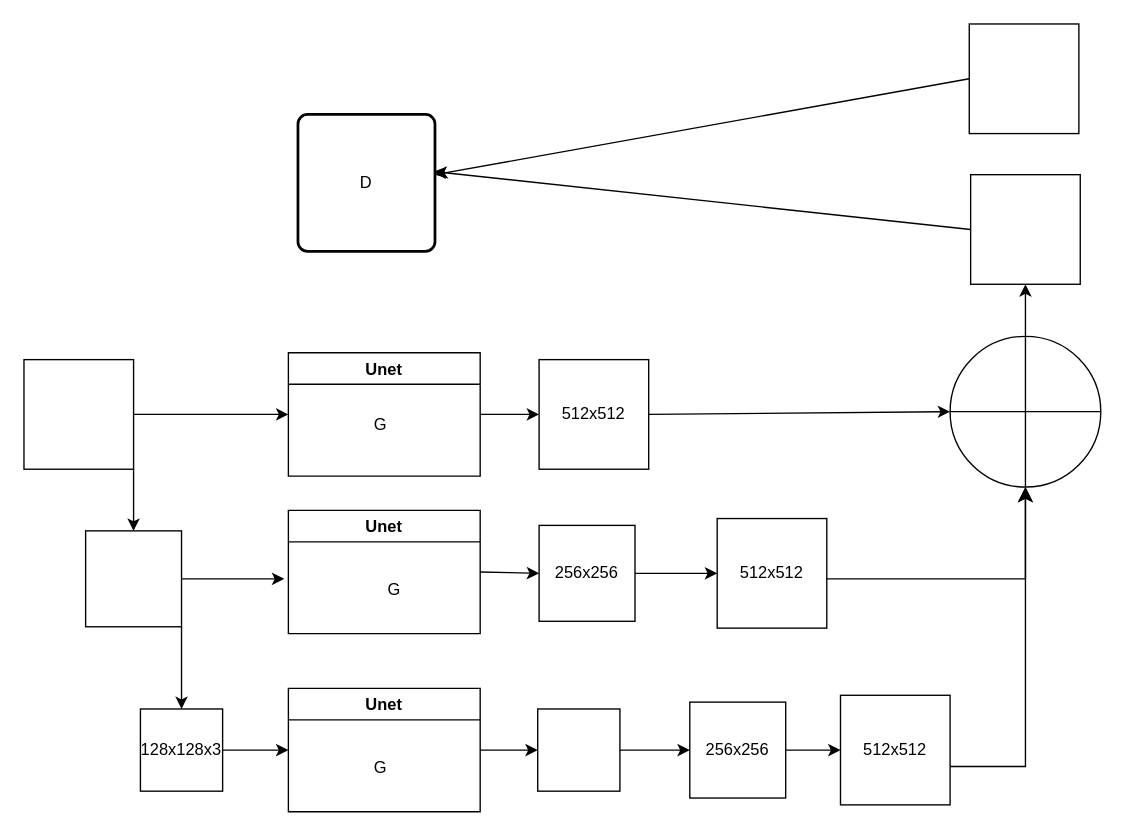
Some shapes in this 1125 by 836 pixel diagram are drawn without their labels. The shapes that lost their labels are listed below. From the top down, each one's centre as x and y in pixels, then its label:
the point at 1023,78: 512x512x1 GTO
the point at 1024,228: 512x512x1 GTP
the point at 78,413: 512x512x3
the point at 133,578: 256x256x3
the point at 578,749: 128x128
